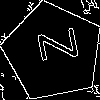Z: (28, 27, 79, 66)
